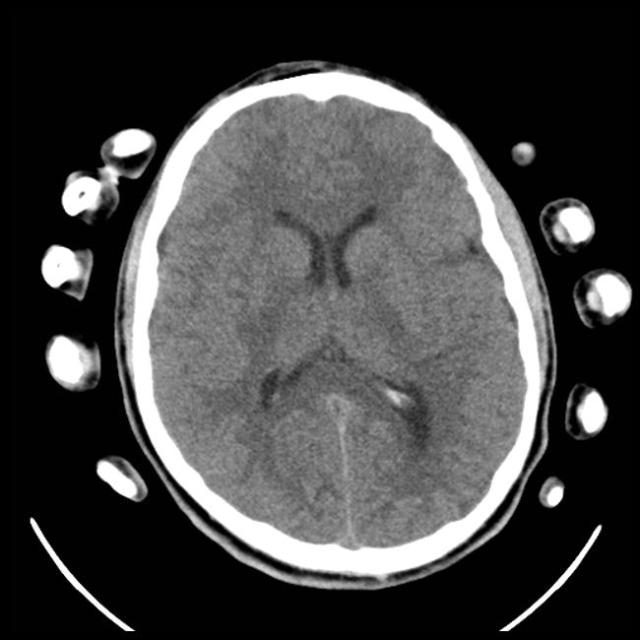lesion: (123, 73, 549, 573)
